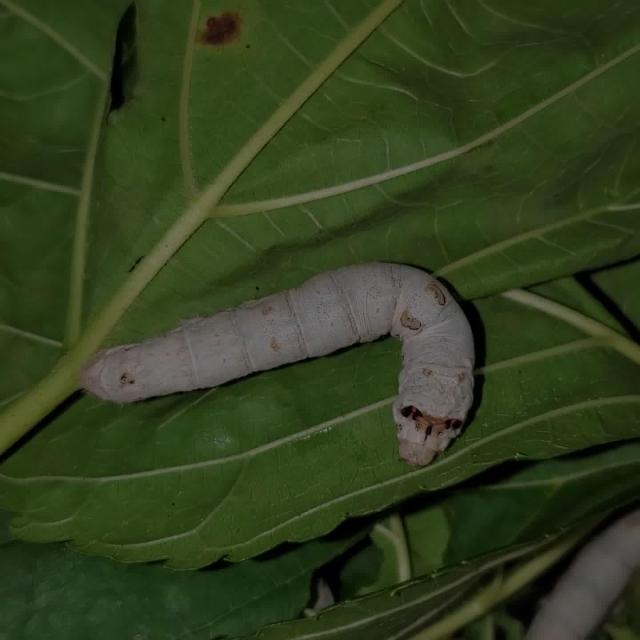Healthy: (65, 231, 501, 487)
